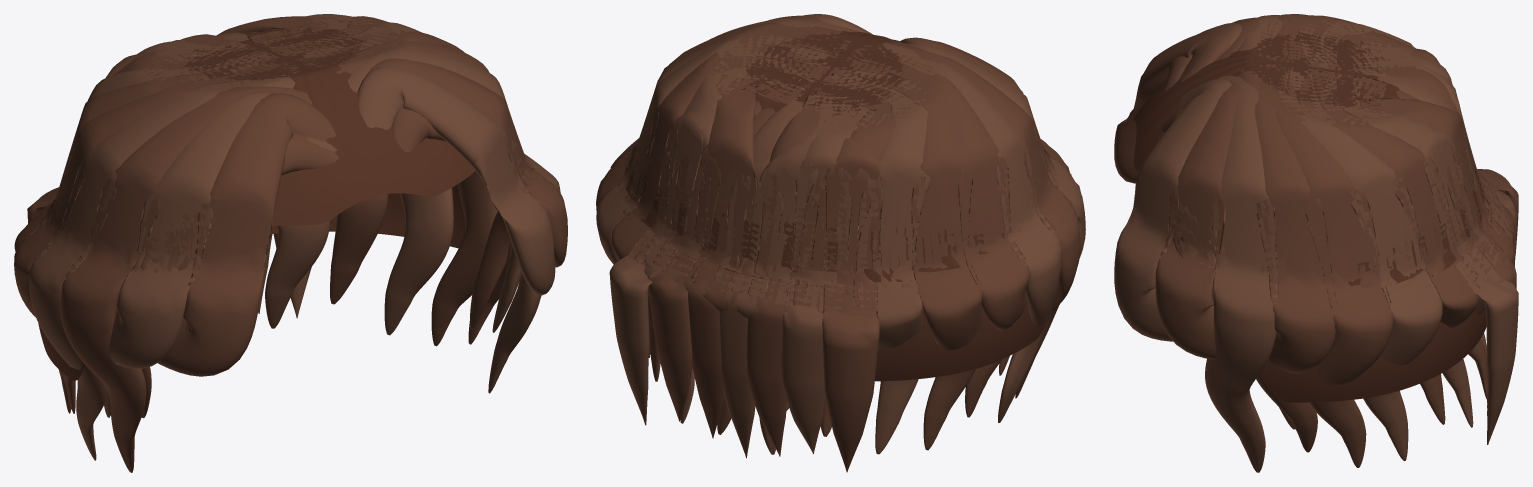
The model's file is Masculine-flow-bucket251-hair.glb.
3 views of the same model, side by side, from view 1: azimuth 30°, elevation 25°; view 2: azimuth 150°, elevation 25°; view 3: azimuth 270°, elevation 25° (orthographic). The views are drawn at different scales.
Visible parts, largest first — view 1: 226 hair / Hair / main251.001, 226 hair / Hair / accent251.001, 226 hair / Hair / recessed roots251.001; view 2: 226 hair / Hair / main251.001, 226 hair / Hair / accent251.001, 226 hair / Hair / recessed roots251.001; view 3: 226 hair / Hair / main251.001, 226 hair / Hair / accent251.001, 226 hair / Hair / recessed roots251.001.
Part boxes in pixels (x1,y1,x2,y2): 226 hair / Hair / main251.001: (14, 16, 567, 472); 226 hair / Hair / accent251.001: (29, 14, 560, 460); 226 hair / Hair / recessed roots251.001: (38, 27, 475, 380); 226 hair / Hair / main251.001: (596, 15, 1080, 472); 226 hair / Hair / accent251.001: (596, 14, 1085, 458); 226 hair / Hair / recessed roots251.001: (625, 31, 1054, 381); 226 hair / Hair / main251.001: (1114, 14, 1518, 467); 226 hair / Hair / accent251.001: (1114, 15, 1518, 472); 226 hair / Hair / recessed roots251.001: (1133, 32, 1492, 402).
Bounding box in the file's own units: 1.11 × 0.8194 × 0.8722.
